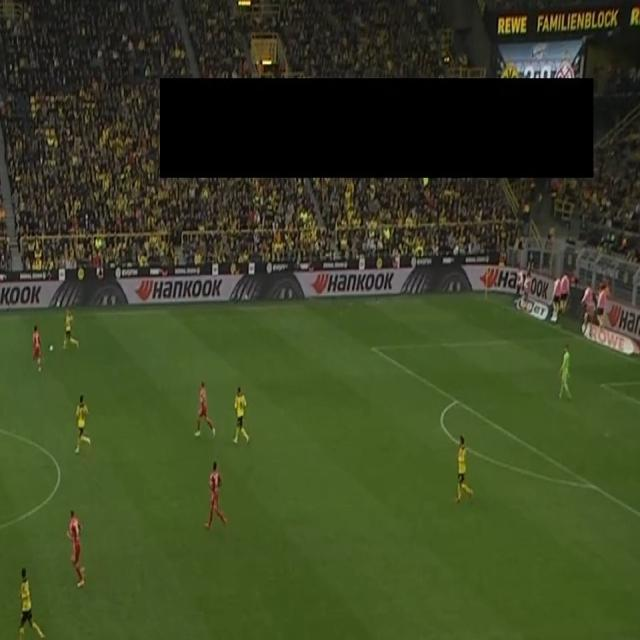ball: (48, 343, 54, 353)
